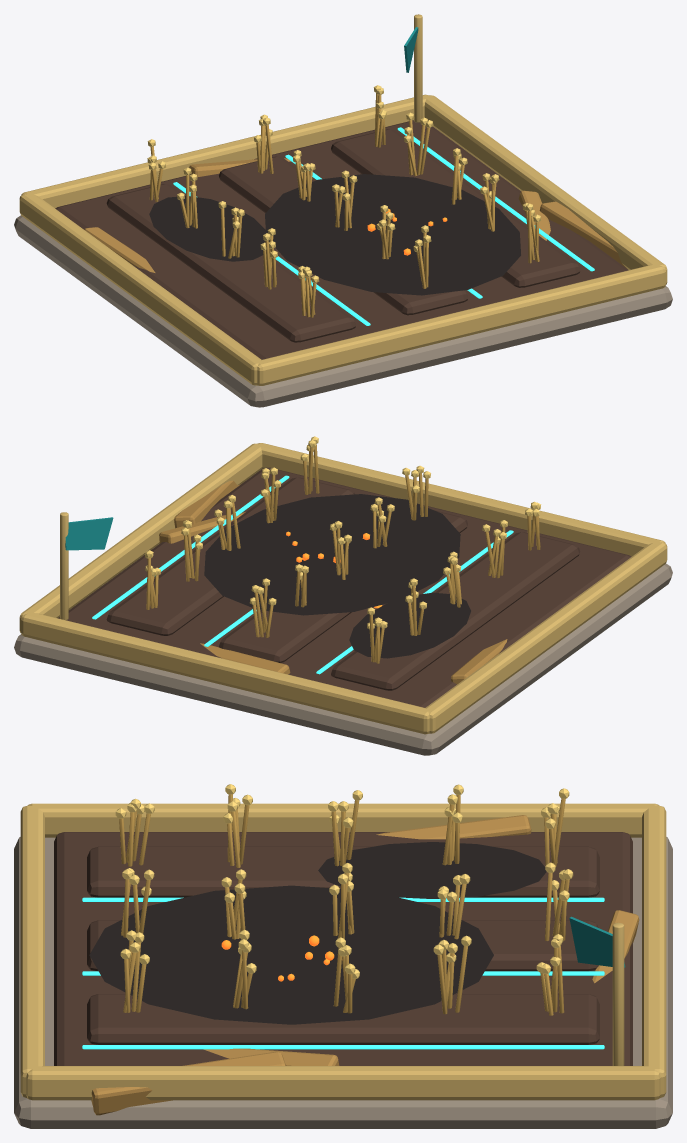
Rendered from sunwoven_farm.glb.
The picture shows the model from 3 angles, top to bottom: view 1: azimuth 30°, elevation 25°; view 2: azimuth 150°, elevation 25°; view 3: azimuth 270°, elevation 25°; orthographic projection. The views are drawn at different scales.
Parts seen in each view (by area): view 1: farm_critical_burn, farm_soil, farm_base, farm_kerb_y_-1, farm_furrow_0, farm_kerb_y_1, farm_kerb_x_-1, farm_furrow_2, farm_kerb_x_1, farm_damage_patch, farm_furrow_1, farm_broken_kerb (+4 smaller); view 2: farm_critical_burn, farm_soil, farm_base, farm_kerb_y_1, farm_furrow_0, farm_kerb_y_-1, farm_kerb_x_-1, farm_furrow_2, farm_kerb_x_1, farm_damage_patch, farm_furrow_1, farm_marker_pennant (+7 smaller); view 3: farm_critical_burn, farm_soil, farm_base, farm_kerb_x_1, farm_furrow_2, farm_kerb_x_-1, farm_furrow_0, farm_damage_patch, farm_kerb_y_-1, farm_kerb_y_1, farm_furrow_1, farm_irrigation_2 (+8 smaller).
Boxes of the visible parts, x1,y1,x2,y2 form: farm_critical_burn: [265, 174, 520, 295]; farm_soil: [55, 120, 628, 359]; farm_base: [14, 215, 672, 407]; farm_kerb_y_-1: [257, 265, 665, 385]; farm_furrow_0: [106, 184, 355, 342]; farm_kerb_y_1: [21, 94, 429, 208]; farm_kerb_x_-1: [19, 193, 262, 385]; farm_furrow_2: [331, 129, 580, 287]; farm_kerb_x_1: [424, 95, 667, 284]; farm_damage_patch: [149, 196, 269, 261]; farm_furrow_1: [219, 156, 467, 315]; farm_broken_kerb: [539, 201, 626, 268]; farm_critical_burn: [204, 494, 460, 615]; farm_soil: [58, 467, 631, 707]; farm_base: [14, 563, 672, 755]; farm_kerb_y_1: [21, 613, 429, 734]; farm_furrow_0: [331, 532, 580, 690]; farm_kerb_y_-1: [257, 443, 665, 556]; farm_kerb_x_-1: [424, 541, 667, 733]; farm_furrow_2: [106, 477, 354, 635]; farm_kerb_x_1: [19, 443, 262, 632]; farm_damage_patch: [349, 592, 470, 658]; farm_furrow_1: [219, 510, 467, 662]; farm_marker_pennant: [65, 517, 113, 550]; farm_critical_burn: [89, 885, 493, 1024]; farm_soil: [54, 832, 632, 1065]; farm_base: [14, 837, 672, 1128]; farm_kerb_x_1: [26, 1066, 660, 1100]; farm_furrow_2: [87, 994, 599, 1044]; farm_kerb_x_-1: [28, 803, 658, 837]; farm_furrow_0: [87, 846, 599, 897]; farm_damage_patch: [318, 842, 546, 898]; farm_kerb_y_-1: [20, 805, 44, 1098]; farm_kerb_y_1: [642, 805, 666, 1098]; farm_furrow_1: [87, 920, 598, 971]; farm_irrigation_2: [82, 1045, 604, 1049].
Bounding box in the file's own units: 7.04 × 2.2 × 7.
